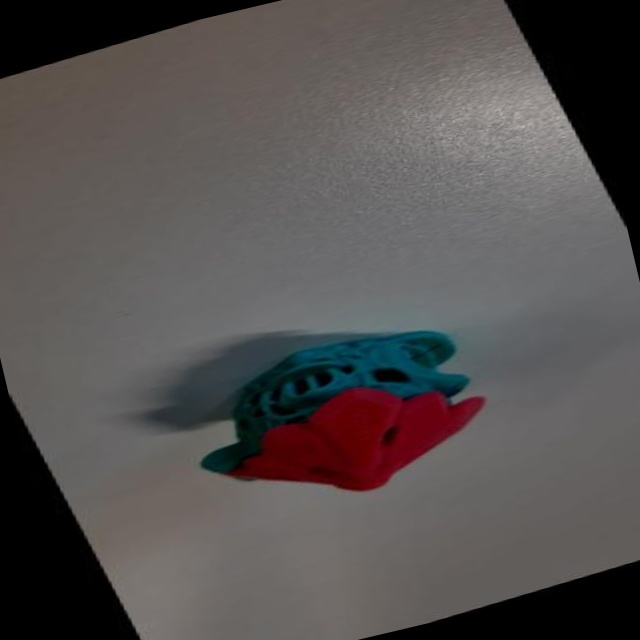House: (97, 247, 545, 572)
